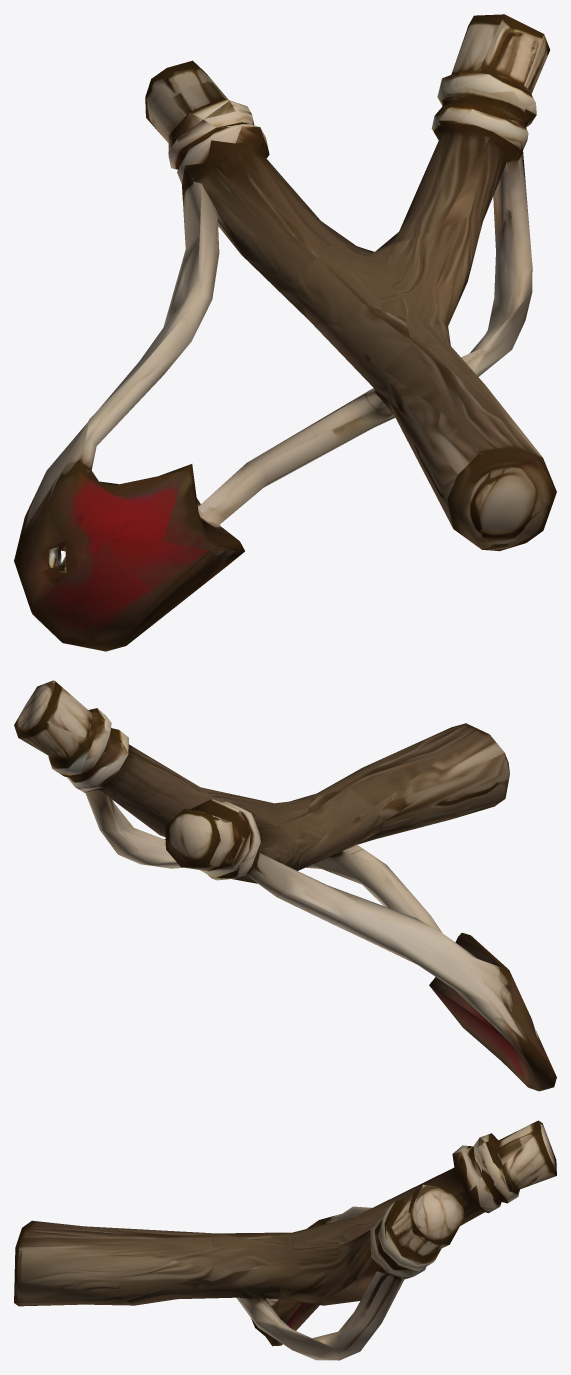
3 renders of one model, top to bottom at view 1: azimuth 30°, elevation 25°; view 2: azimuth 150°, elevation 25°; view 3: azimuth 270°, elevation 25°, orthographic. The views are drawn at different scales.
Parts seen in each view (by area): view 1: texture_pbr_v128; view 2: texture_pbr_v128; view 3: texture_pbr_v128.
Boxes of the visible parts, x1,y1,x2,y2 form: texture_pbr_v128: [14, 14, 556, 651]; texture_pbr_v128: [14, 680, 556, 1091]; texture_pbr_v128: [14, 1120, 556, 1360].
Size of the model in its own units: 94.06 by 68.62 by 97.92.
Materials: 1 (1 with a texture image).
